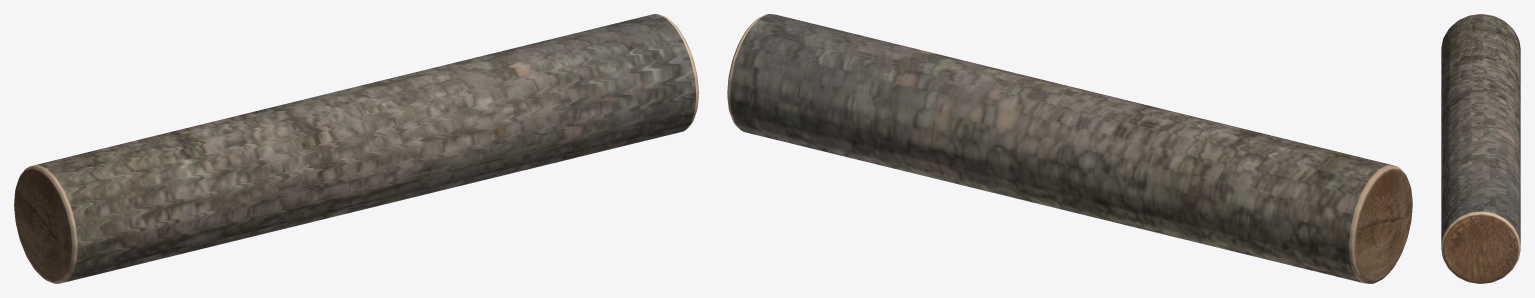
The model's file is Log.fbx.
3 views of the same model, side by side, from view 1: azimuth 30°, elevation 25°; view 2: azimuth 150°, elevation 25°; view 3: azimuth 270°, elevation 25° (orthographic). The views are drawn at different scales.
Visible parts, largest first — view 1: pCylinder1; view 2: pCylinder1; view 3: pCylinder1.
Part boxes in pixels (bbox=[...]): pCylinder1: bbox=[14, 14, 698, 283]; pCylinder1: bbox=[727, 14, 1412, 283]; pCylinder1: bbox=[1441, 14, 1520, 283].
Size of the model in its own units: 11.83 by 1.99 by 1.99.
Materials: 1 (1 with a texture image).
